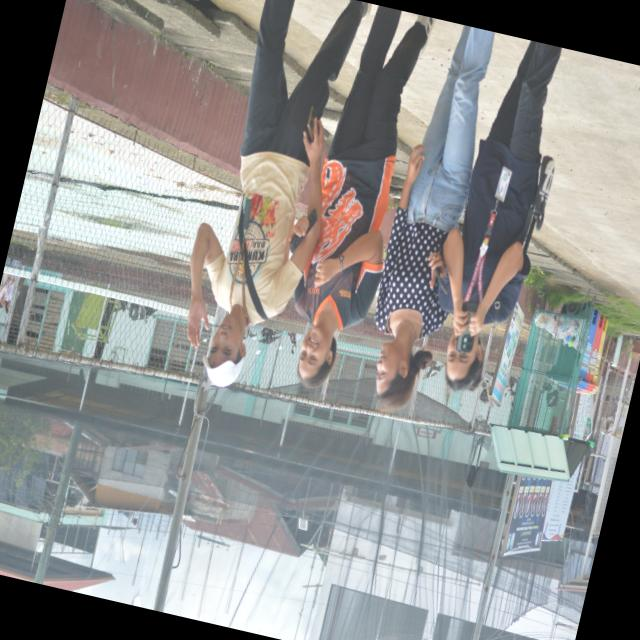person: (187, 0, 370, 385), (294, 6, 434, 387), (374, 26, 493, 410), (438, 41, 560, 390)
